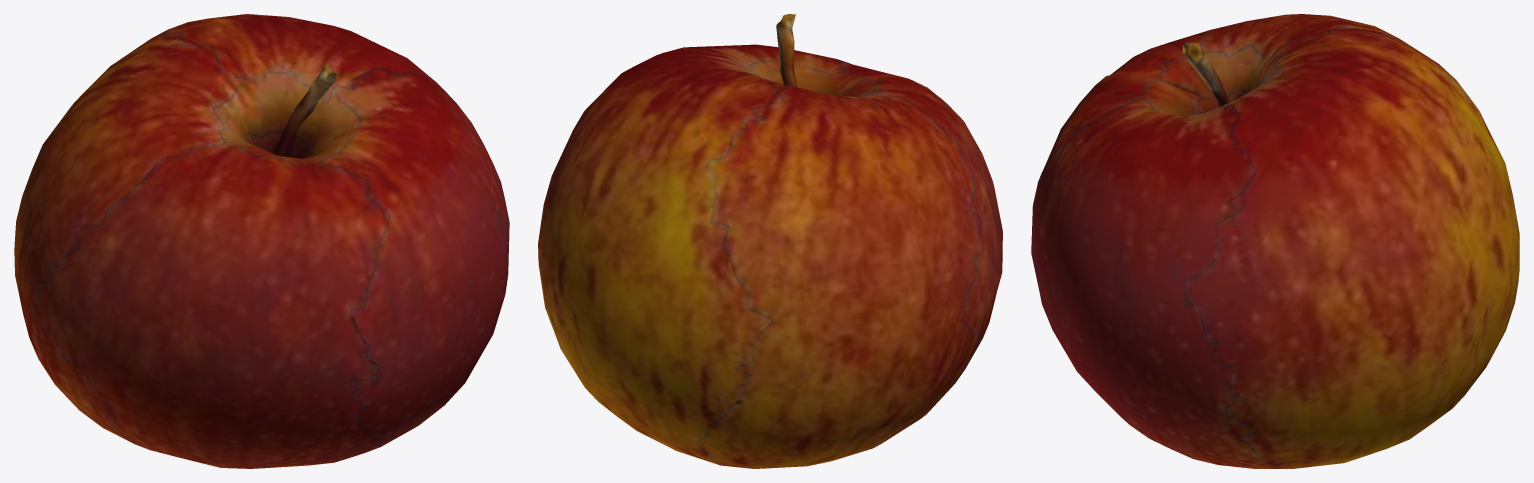
File: food_apple_01.glb
The picture shows the model from 3 angles, left to right: view 1: azimuth 30°, elevation 25°; view 2: azimuth 150°, elevation 25°; view 3: azimuth 270°, elevation 25°; orthographic projection. The views are drawn at different scales.
Visible parts, largest first — view 1: food_apple_01; view 2: food_apple_01; view 3: food_apple_01.
Part boxes in pixels (x1,y1,x2,y2): food_apple_01: [14, 14, 509, 468]; food_apple_01: [538, 14, 1002, 468]; food_apple_01: [1031, 14, 1519, 468].
Bounding box in the file's own units: 0.0975 × 0.0854 × 0.0958.
1 material, 1 textured.
